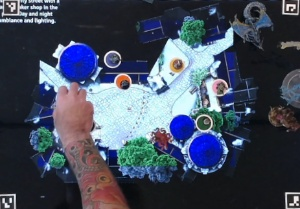green: (194, 113, 213, 131)
orange: (113, 72, 132, 90)
pink: (210, 78, 229, 97)
violet: (102, 49, 125, 68)
yellow: (168, 56, 186, 75)
